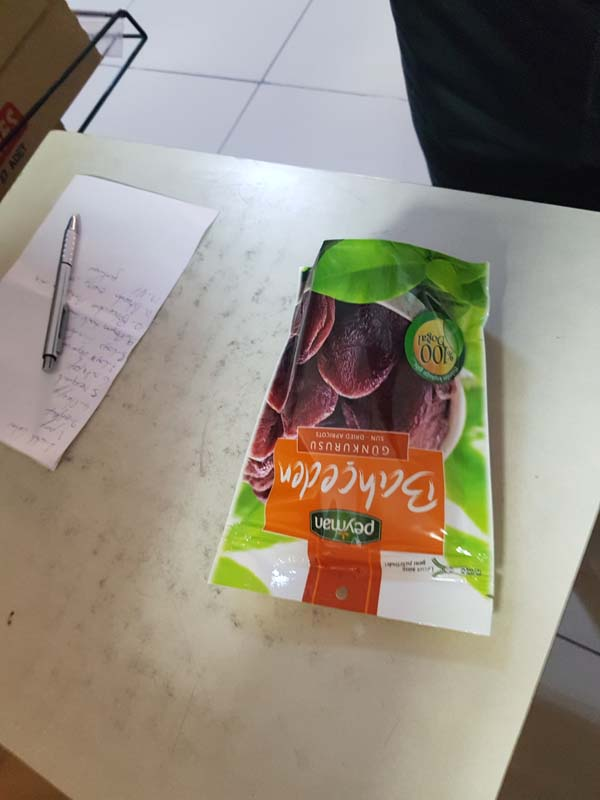bahcedengunkurusu: (216, 227, 514, 648)
